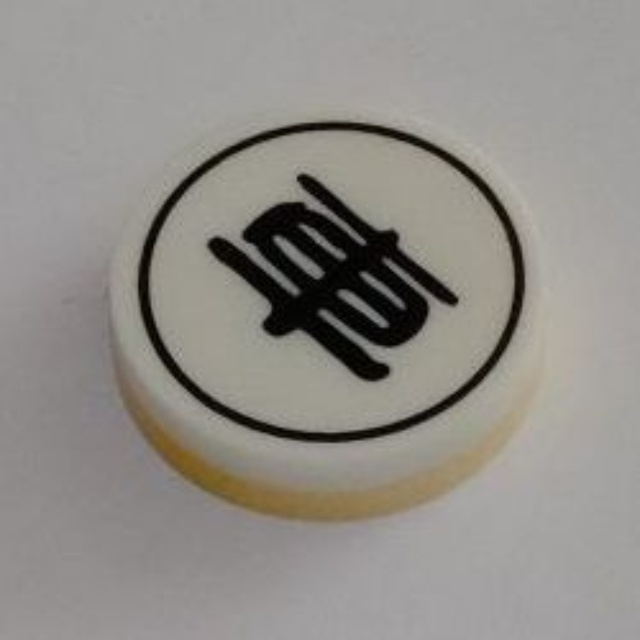black_xe: (98, 103, 551, 526)
